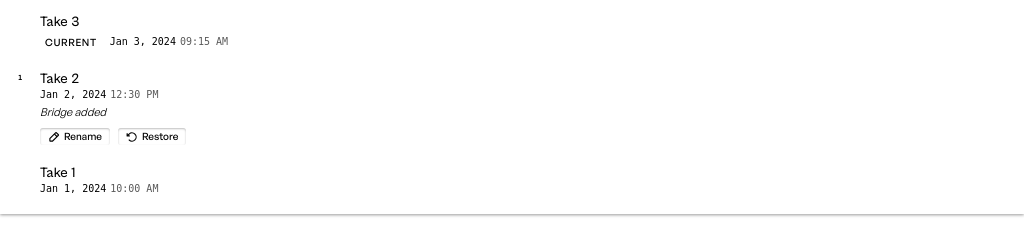
Scenario: Versions rename › clicking Rename shows an inline text input
The image size is (1024, 234).
Click the button with aria-label "Rename Take 2". click: click(75, 137)
box: left=40, top=128, right=110, bottom=145
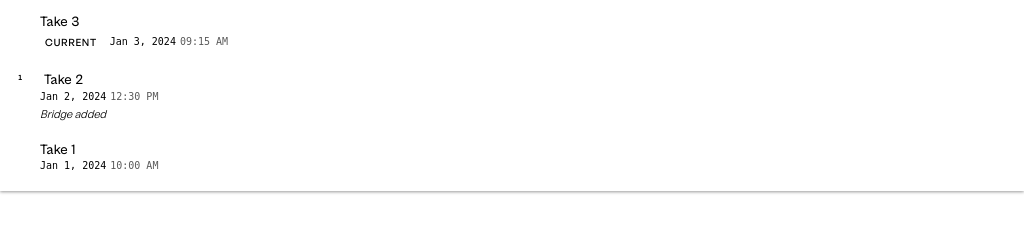
Check: the field named "Rename version" is shown, box left=40, top=71, right=260, bottom=90
